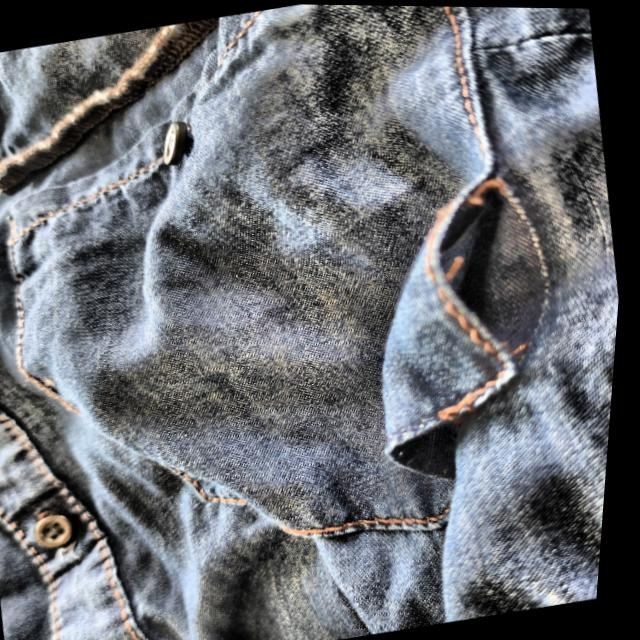seam: (408, 139, 596, 380), (373, 401, 503, 504)
